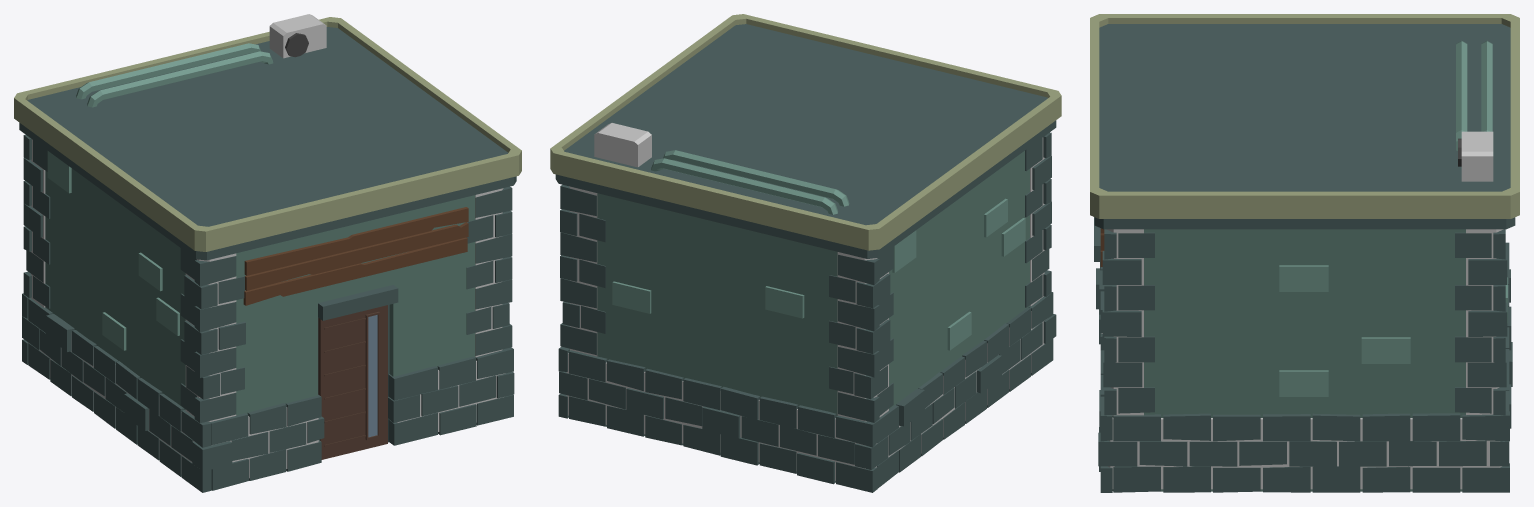
Rendered from 1story_sign_mat.glb.
3 renders of one model, left to right at view 1: azimuth 30°, elevation 25°; view 2: azimuth 150°, elevation 25°; view 3: azimuth 270°, elevation 25°, orthographic. The views are drawn at different scales.
Visible parts, largest first — view 1: 1Story_Sign_Mat; view 2: 1Story_Sign_Mat; view 3: 1Story_Sign_Mat.
Boxes of the visible parts, x1=… form: 1Story_Sign_Mat: x1=14, y1=14, x2=521, y2=492; 1Story_Sign_Mat: x1=550, y1=14, x2=1061, y2=492; 1Story_Sign_Mat: x1=1090, y1=14, x2=1519, y2=492.
Bounding box in the file's own units: 2.15 × 1.79 × 2.15.
